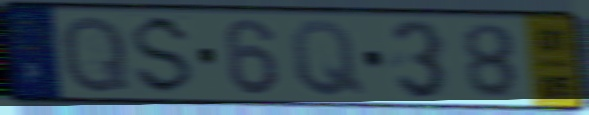3: (386, 17, 451, 102)
6: (221, 16, 281, 98)
8: (459, 22, 520, 101)
Q: (288, 17, 369, 99), (60, 12, 134, 97)
S: (130, 12, 198, 98)
